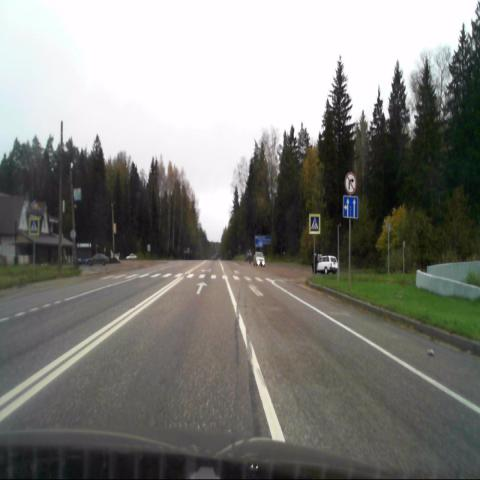3_18: (344, 172, 356, 193)
5_15_2_2: (342, 196, 358, 218)
